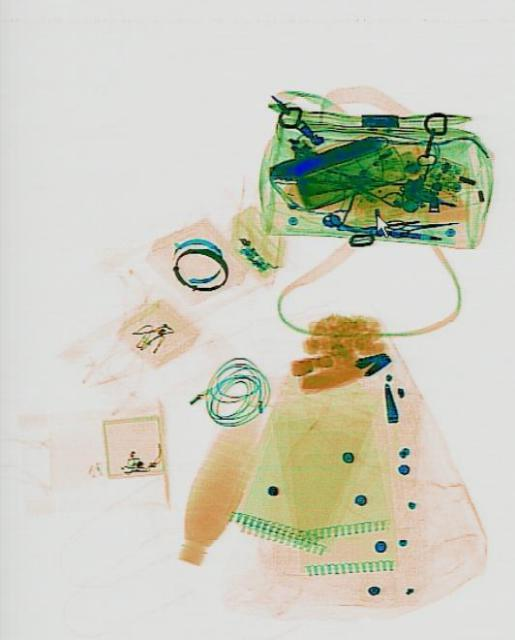Scissors: (381, 212, 460, 240)
